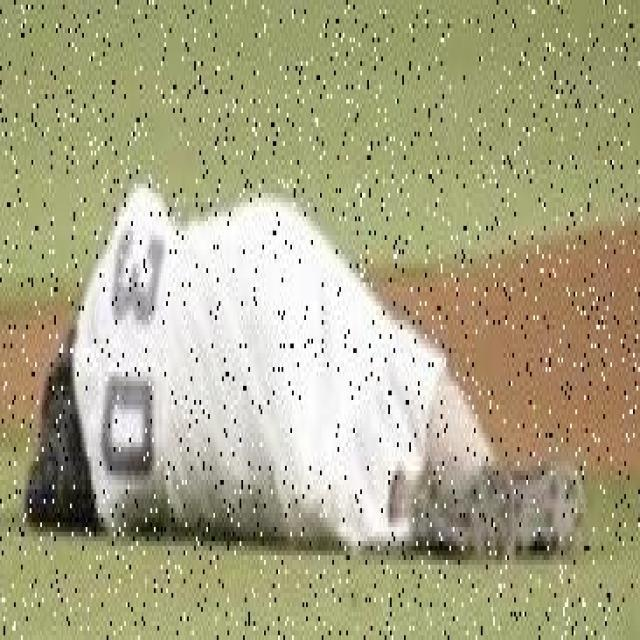fall: (39, 226, 578, 560)
